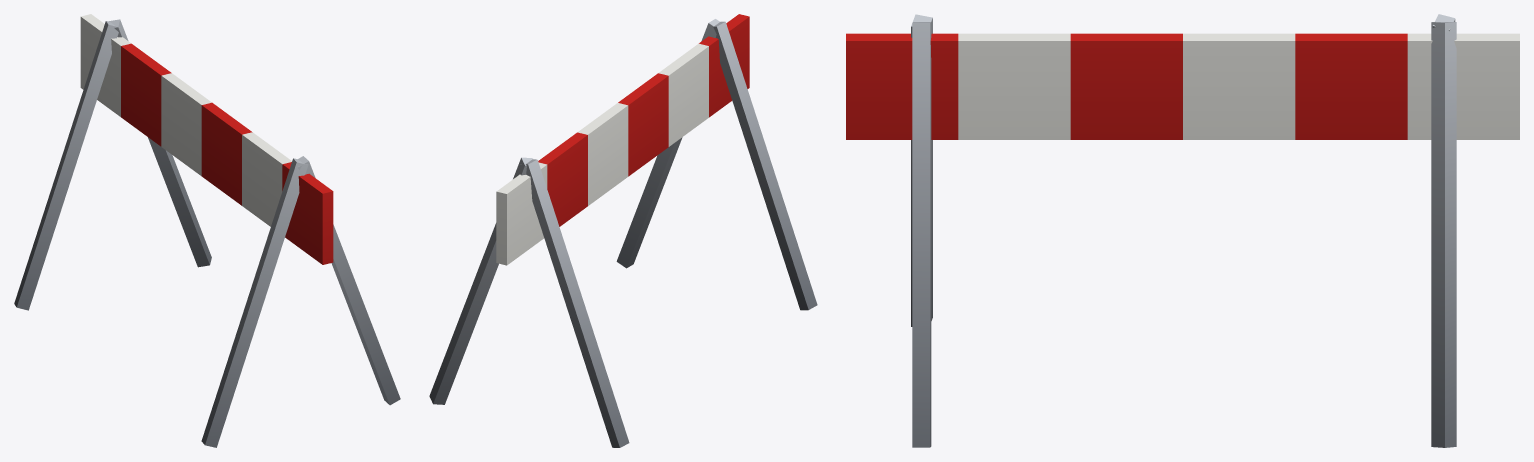
The model's file is WorksBarrier.fbx.
3 views of the same model, side by side, from view 1: azimuth 30°, elevation 25°; view 2: azimuth 150°, elevation 25°; view 3: azimuth 270°, elevation 25° (orthographic). The views are drawn at different scales.
Parts seen in each view (by area): view 1: WorksBarrier_LOD0; view 2: WorksBarrier_LOD0; view 3: WorksBarrier_LOD0.
Part boxes in pixels (x1,y1,x2,y2): WorksBarrier_LOD0: (14, 14, 400, 447); WorksBarrier_LOD0: (429, 14, 817, 447); WorksBarrier_LOD0: (846, 14, 1519, 447).
Bounding box in the file's own units: 0.1076 × 0.1387 × 0.2286.
Materials: 1 (1 with a texture image).
